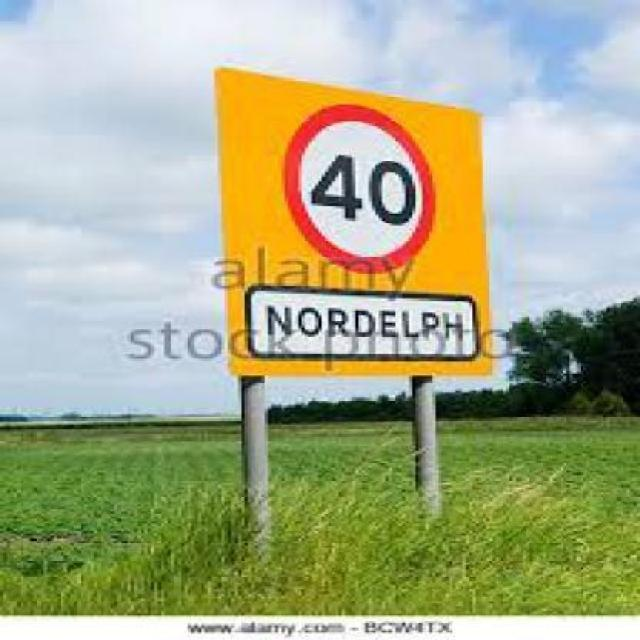forb_speed_over_40: (289, 105, 435, 266)
